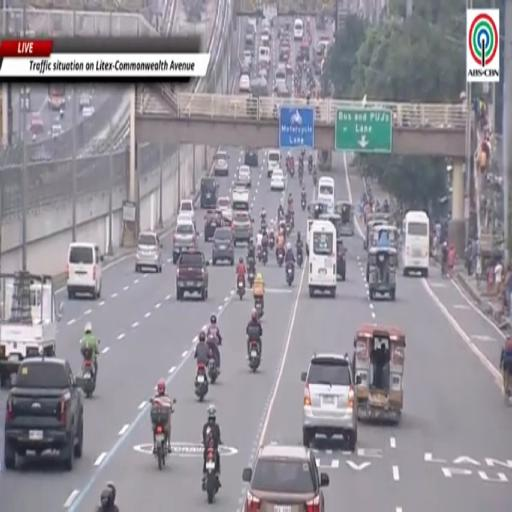bus: (308, 220, 336, 297), (402, 211, 429, 278), (316, 176, 335, 213), (48, 84, 65, 110)
car: (301, 354, 360, 452), (243, 444, 329, 511), (67, 243, 103, 299), (173, 214, 197, 264), (135, 231, 163, 273), (212, 228, 234, 265), (232, 211, 253, 245), (204, 211, 226, 242), (200, 178, 218, 209), (179, 200, 196, 228), (232, 187, 249, 211), (217, 197, 232, 222), (214, 151, 229, 175), (268, 150, 280, 178), (236, 166, 251, 187), (271, 168, 285, 190), (275, 63, 287, 88), (179, 200, 194, 218), (244, 149, 258, 167), (259, 46, 270, 68), (79, 92, 92, 110), (276, 84, 291, 98), (239, 75, 250, 93), (51, 122, 63, 138), (294, 19, 303, 40), (81, 106, 94, 119), (243, 51, 252, 68), (258, 68, 268, 83), (240, 61, 250, 76), (262, 27, 271, 40), (261, 32, 269, 46), (262, 19, 271, 30)
jeepney: (353, 325, 405, 423), (367, 247, 397, 300), (364, 213, 390, 249), (370, 224, 398, 249), (335, 201, 354, 236)
motorcycle: (150, 398, 173, 470), (203, 445, 219, 504), (79, 347, 96, 397), (195, 363, 208, 402), (207, 350, 218, 383), (249, 341, 260, 372), (286, 262, 294, 286), (255, 297, 263, 317), (237, 280, 245, 299), (297, 247, 303, 267), (277, 249, 284, 266), (248, 268, 254, 287), (269, 232, 275, 249), (262, 247, 267, 265), (261, 218, 267, 232), (298, 170, 303, 185), (286, 221, 291, 236), (301, 198, 306, 212), (289, 166, 294, 178), (257, 246, 261, 261), (313, 174, 317, 186), (309, 160, 312, 173)
truck: (4, 357, 83, 470), (0, 271, 62, 385), (176, 250, 209, 300)
